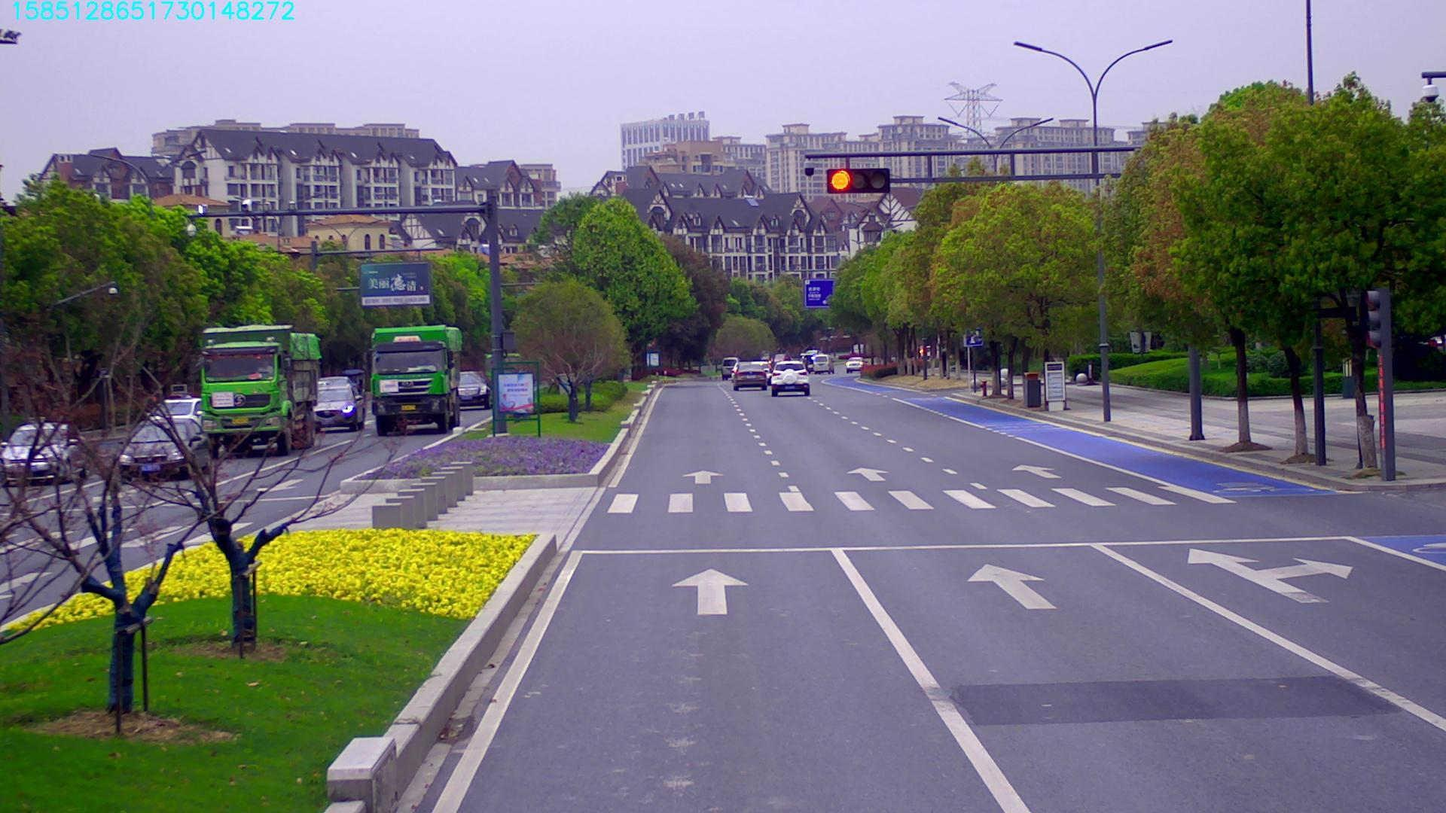red: (825, 164, 891, 190)
